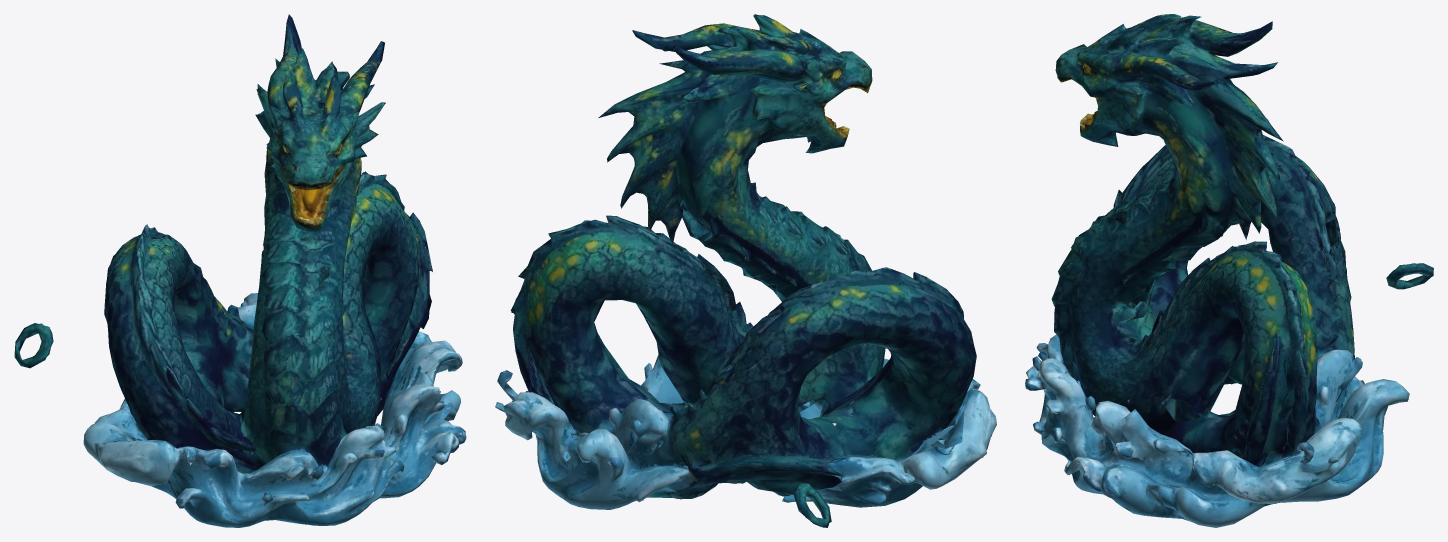
Rendered from leviathan.glb.
The picture shows the model from 3 angles, left to right: view 1: azimuth 30°, elevation 25°; view 2: azimuth 150°, elevation 25°; view 3: azimuth 270°, elevation 25°; orthographic projection. The views are drawn at different scales.
Visible parts, largest first — view 1: geometry_0; view 2: geometry_0; view 3: geometry_0.
Boxes of the visible parts, bbox=[...] form: geometry_0: bbox=[14, 14, 466, 527]; geometry_0: bbox=[495, 14, 996, 527]; geometry_0: bbox=[1025, 14, 1433, 527].
Bounding box in the file's own units: 0.7801 × 0.8267 × 0.6736.
1 material, 1 textured.
